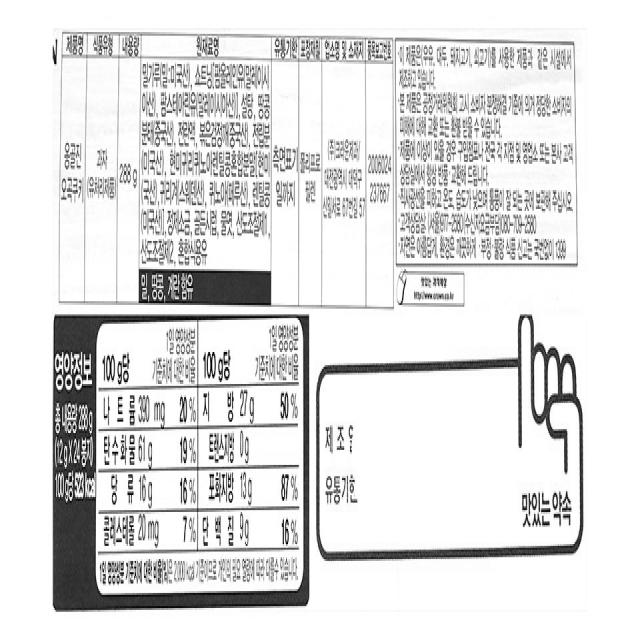Nutrition Label: (47, 305, 314, 617)
